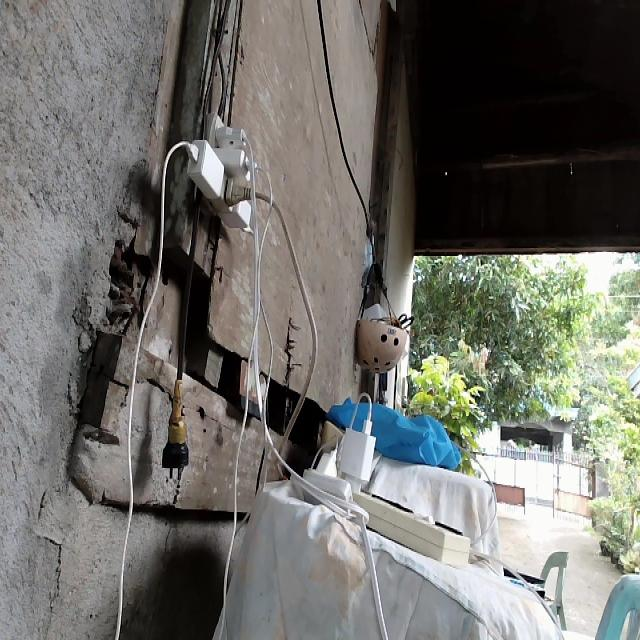-: (183, 104, 260, 235)
